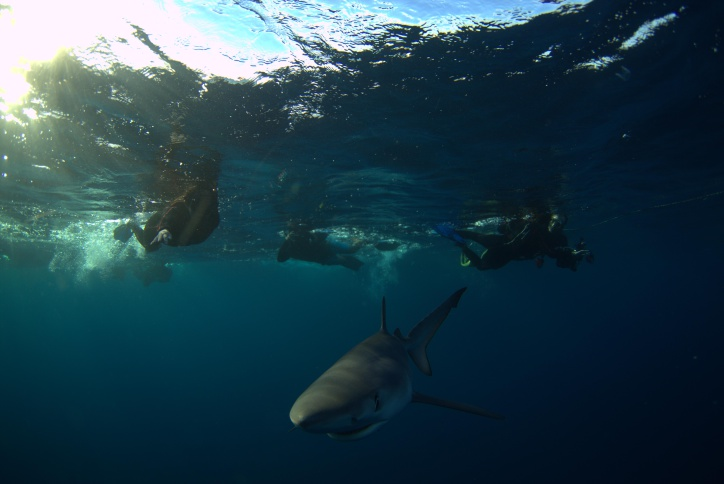Azul: (258, 276, 528, 457), (196, 264, 348, 340)
